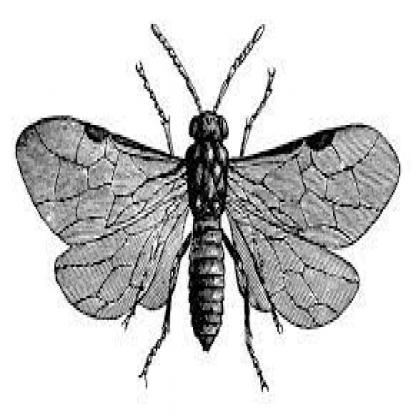sawfly: (12, 15, 401, 403)
